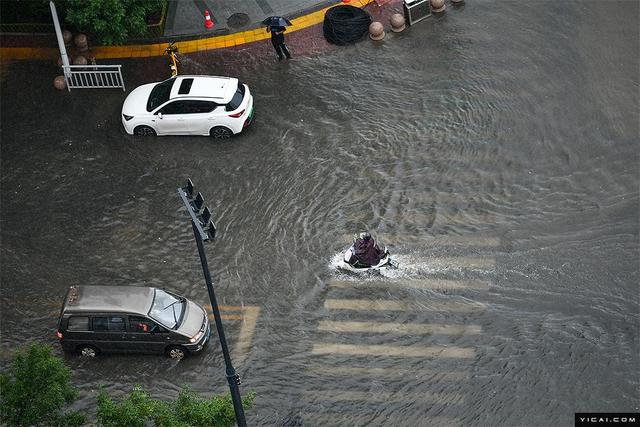puddle: (256, 57, 627, 423)
